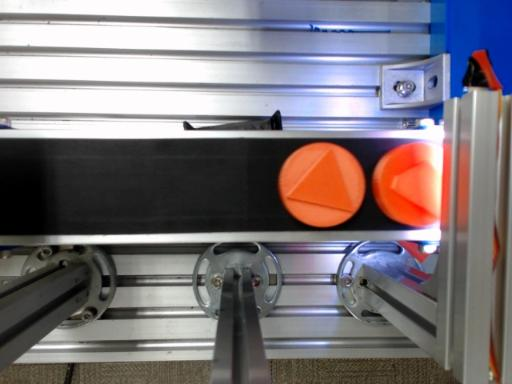Orange_Waper: (278, 142, 366, 226), (373, 142, 442, 226)
